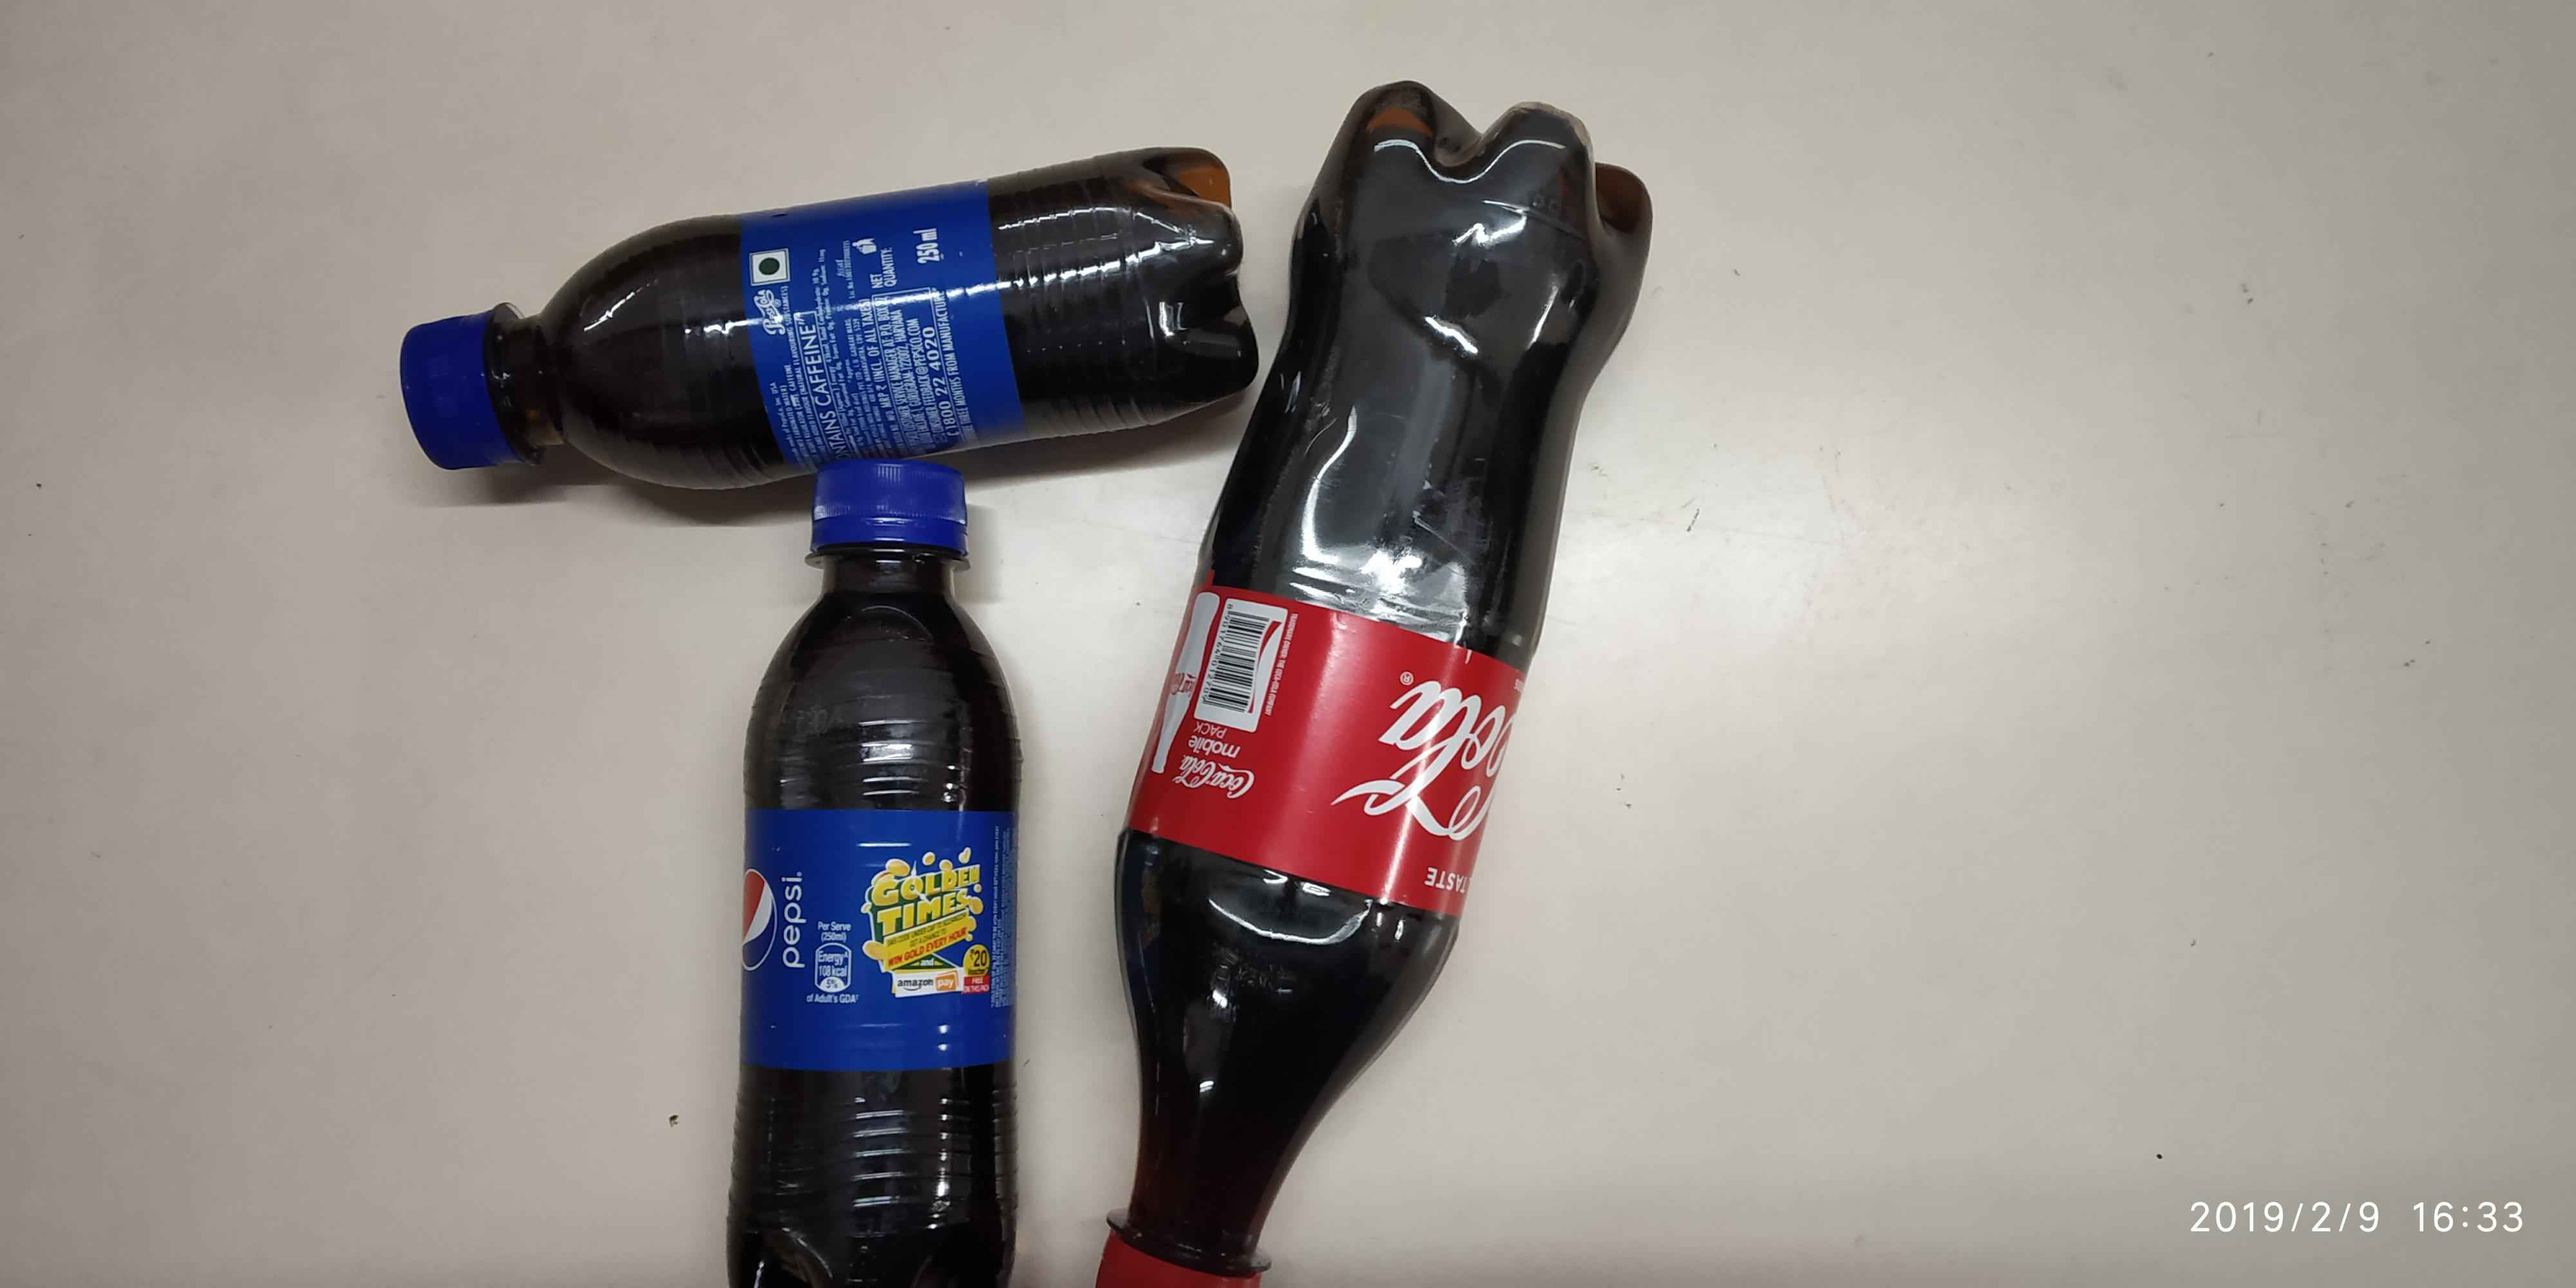Coca-Cola: (1171, 586, 1536, 912)
pepsi: (746, 182, 1037, 437), (746, 800, 1004, 1065)
